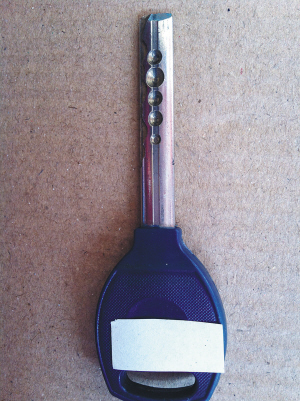key: (90, 9, 229, 401)
